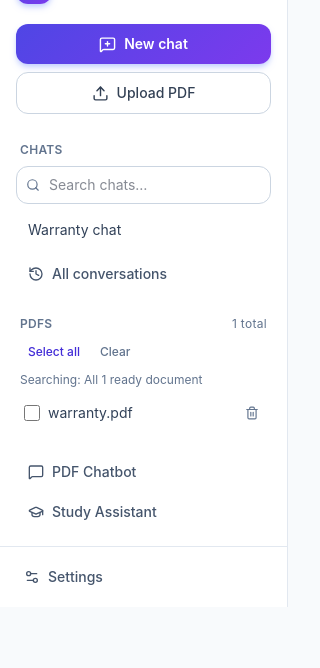
Test case: Sidebar settings › chooses the answer length and saves it for the next question
Click the button "Settings" at (144,577), box left=16, top=559, right=271, bottom=595
(page scrolled)
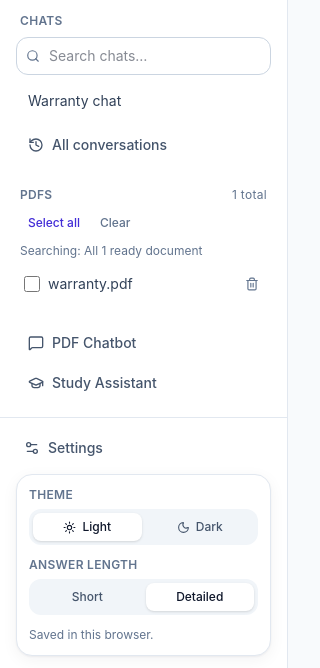
Click the button "Short" at (87,597), box left=33, top=583, right=142, bottom=611
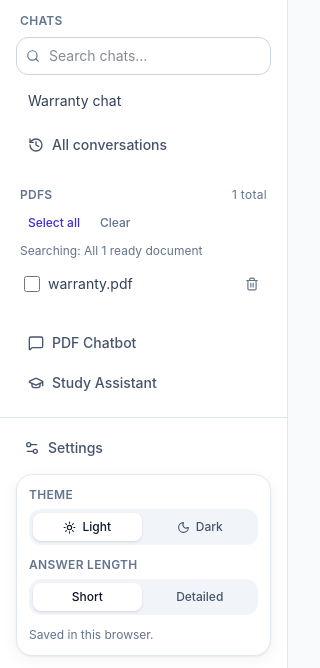
Now the button "Short" is pressed, box left=33, top=583, right=142, bottom=611
